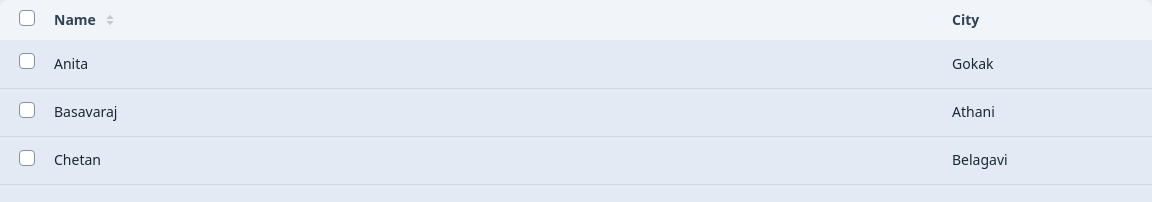
Test: DataTable selection › selects every row from the select-all box, and clears them again
This screenshot has width=1152, height=202.
Click the checkbox named "Select all rows" at (27, 18), box x1=19 y1=10 x2=35 y2=26
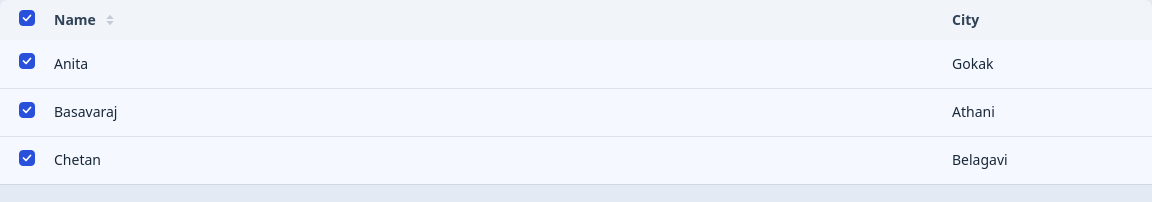
Expected: the checkbox named "Select all rows" is checked
Click the checkbox named "Select all rows" at (27, 18), box x1=19 y1=10 x2=35 y2=26
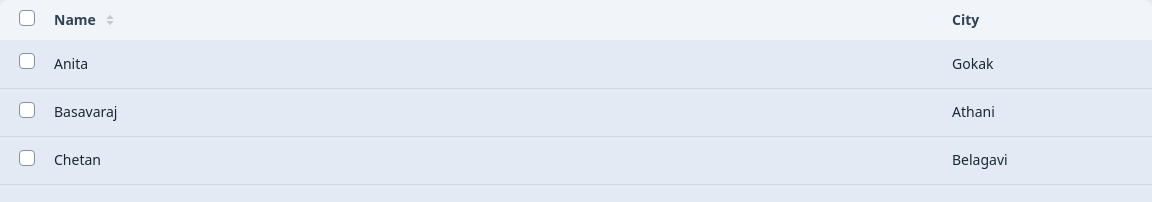
Expected: the checkbox named "Select Anita" is not checked, x1=19 y1=53 x2=35 y2=69
